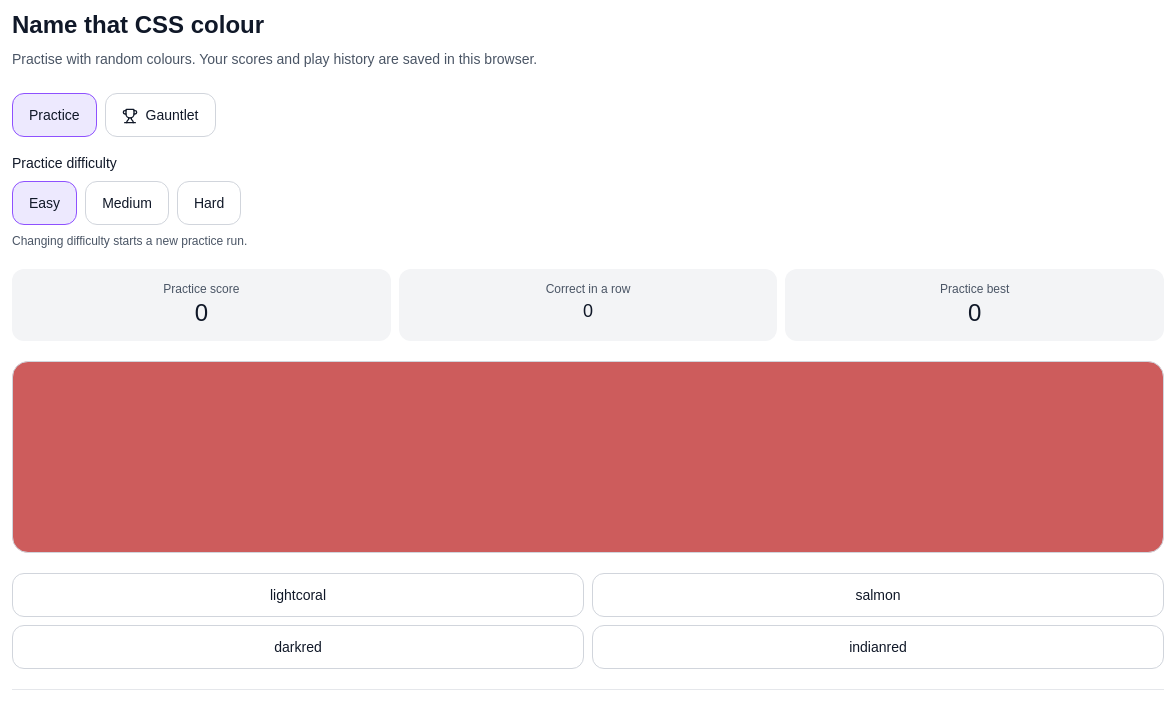
it: Gauntlet results focus the retry control and keep practice best separate
Click the button "Gauntlet" at [160, 115], box [105,93,216,137]
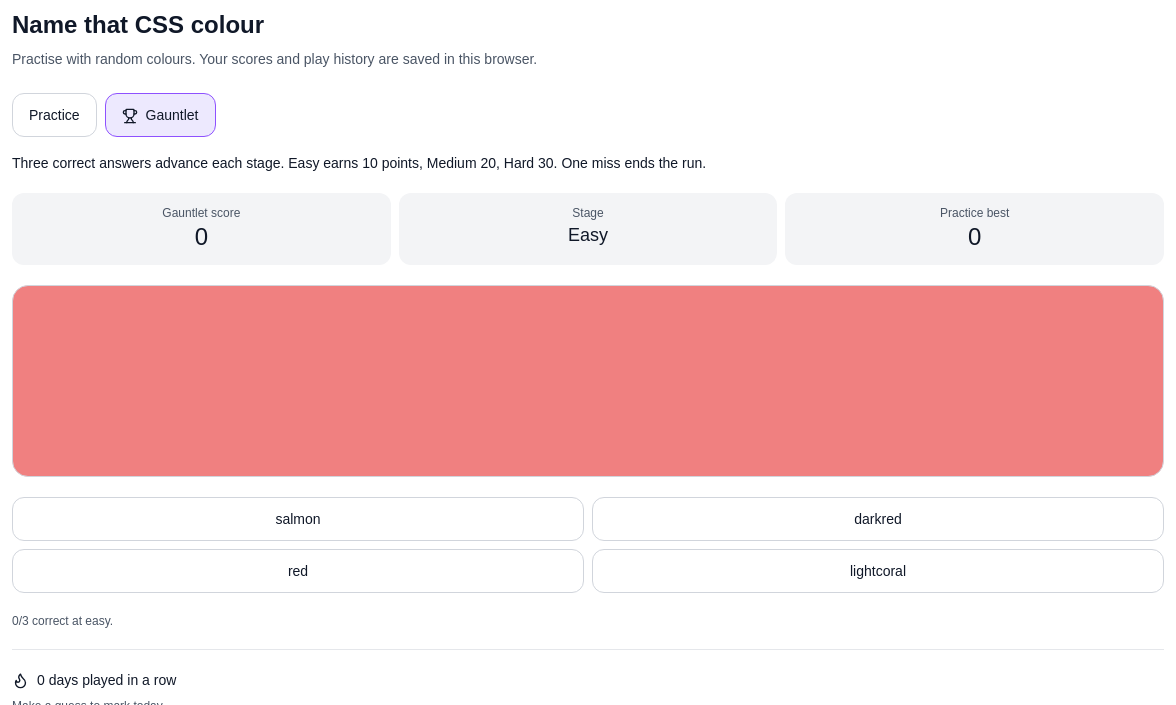
Click the button "salmon" at [298, 519], box [12,497,584,541]
(page scrolled)
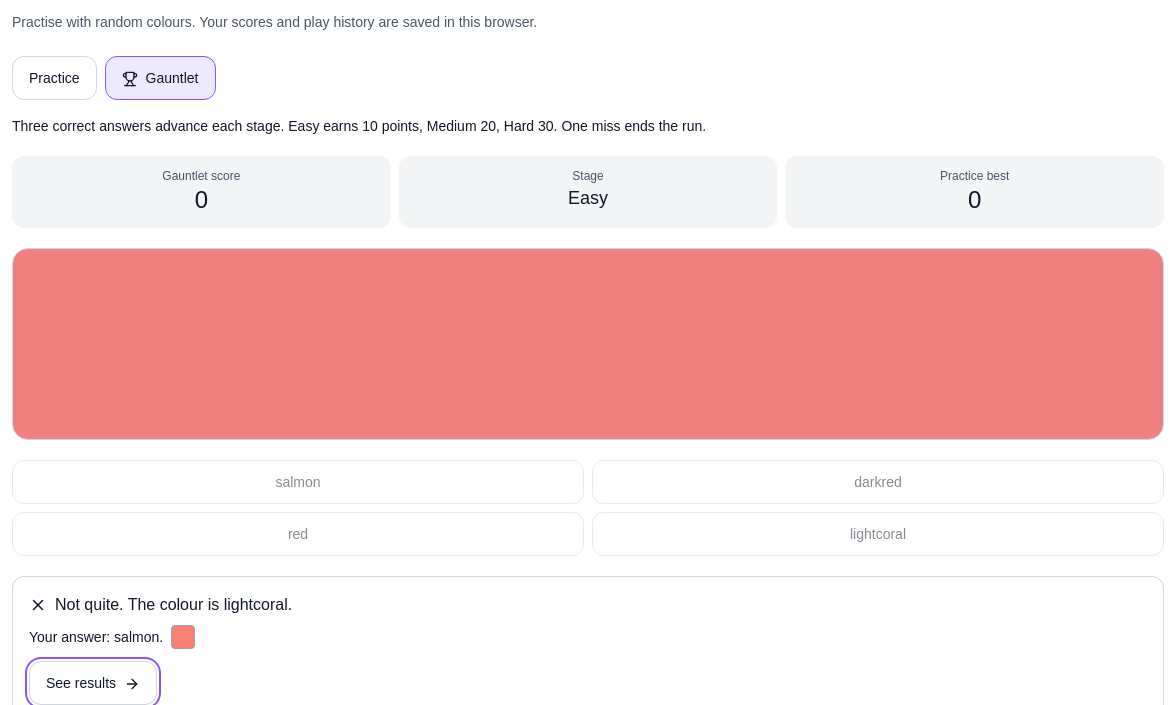
Click the button "See results" at [93, 683], box [29,661,157,704]
(page scrolled)
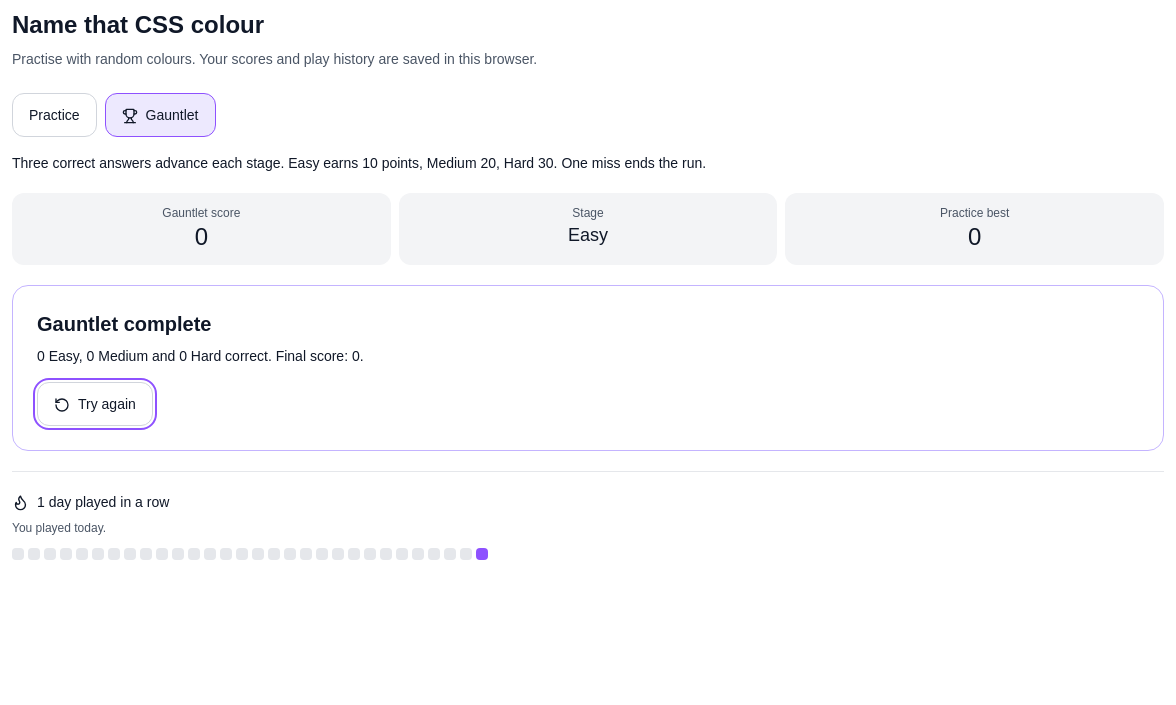
expect the text "0 Easy, 0 Medium and 0 Hard correct. Final score: 0." is shown: met, box [37,348,364,364]
